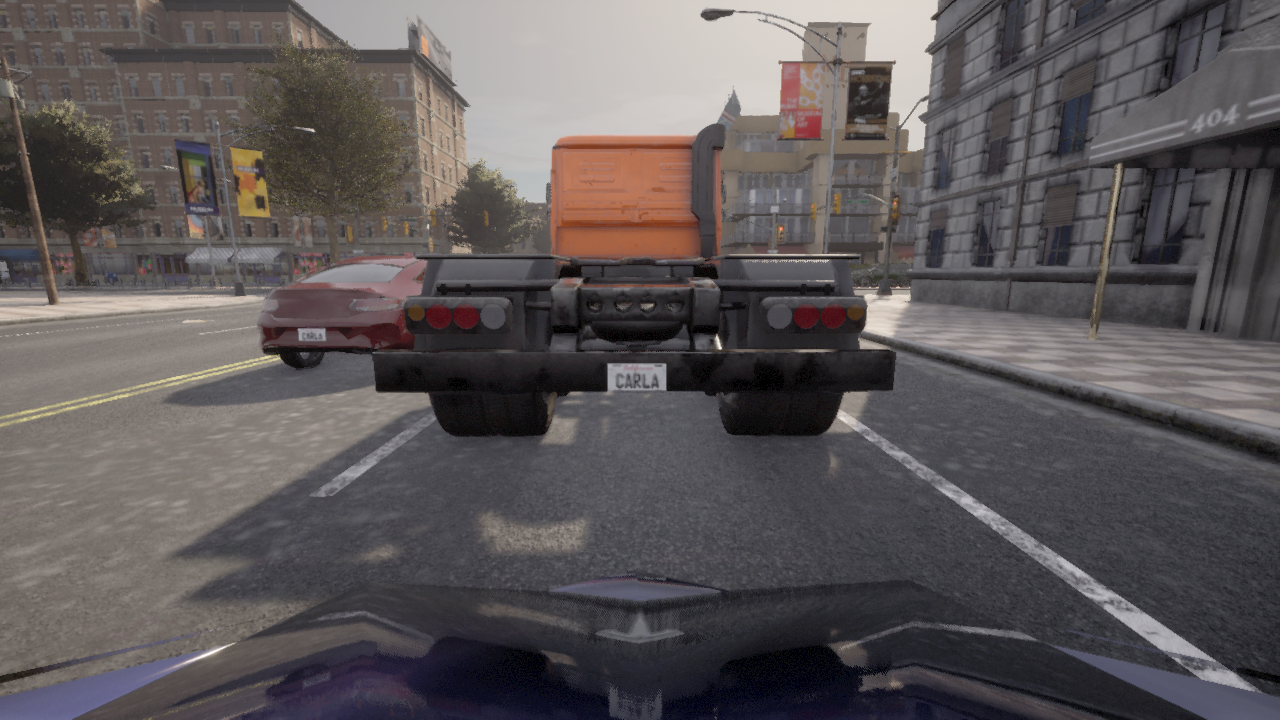cyclist: (0, 569, 1279, 719), (372, 123, 896, 436), (258, 256, 427, 368), (851, 263, 912, 286), (851, 269, 877, 286)
